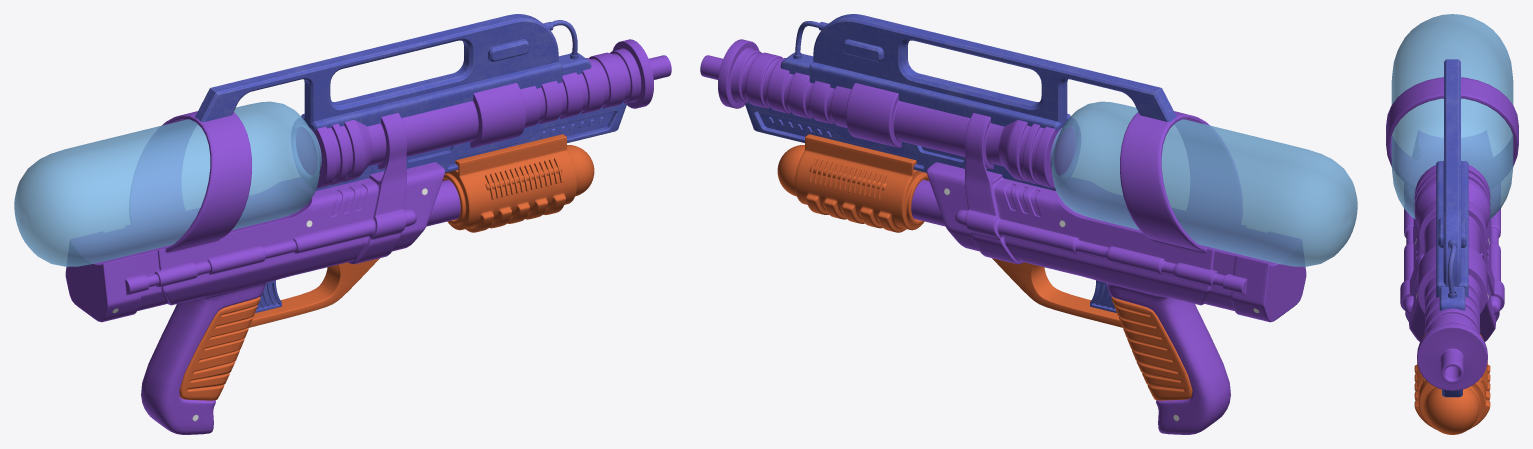
File: gun.glb
3 views of the same model, side by side, from view 1: azimuth 30°, elevation 25°; view 2: azimuth 150°, elevation 25°; view 3: azimuth 270°, elevation 25° (orthographic). The views are drawn at different scales.
Visible parts, largest first — view 1: FinalBase_low, Cylinder.012, Cube.011, Cylinder.013, FinalCover, Cube.010, Cube.009, Cylinder.014; view 2: FinalBase_low, Cylinder.012, Cube.011, Cylinder.013, FinalCover, Cube.010, Cube.009, Cylinder.014; view 3: FinalBase_low, Cylinder.012, Cube.011, Cylinder.013, Cylinder.014, Cube.010.
Part boxes in pixels (x1=…): FinalBase_low: x1=65, y1=39, x2=671, y2=434; Cylinder.012: x1=14, y1=101, x2=321, y2=266; Cube.011: x1=195, y1=14, x2=591, y2=130; Cylinder.013: x1=442, y1=134, x2=594, y2=232; FinalCover: x1=179, y1=297, x2=260, y2=400; Cube.010: x1=315, y1=101, x2=627, y2=190; Cube.009: x1=248, y1=258, x2=379, y2=327; Cylinder.014: x1=485, y1=158, x2=563, y2=199; FinalBase_low: x1=700, y1=39, x2=1306, y2=434; Cylinder.012: x1=1050, y1=101, x2=1357, y2=266; Cube.011: x1=780, y1=14, x2=1176, y2=130; Cylinder.013: x1=777, y1=134, x2=929, y2=232; FinalCover: x1=1111, y1=297, x2=1192, y2=400; Cube.010: x1=744, y1=101, x2=1056, y2=190; Cube.009: x1=992, y1=258, x2=1123, y2=327; Cylinder.014: x1=808, y1=158, x2=886, y2=199; FinalBase_low: x1=1386, y1=77, x2=1518, y2=390; Cylinder.012: x1=1391, y1=14, x2=1513, y2=218; Cube.011: x1=1436, y1=59, x2=1468, y2=310; Cylinder.013: x1=1414, y1=334, x2=1490, y2=434; Cylinder.014: x1=1417, y1=360, x2=1487, y2=390; Cube.010: x1=1442, y1=389, x2=1462, y2=397.
Size of the model in its own units: 393 by 195 by 68.92.
Materials: 4 (3 with a texture image).
